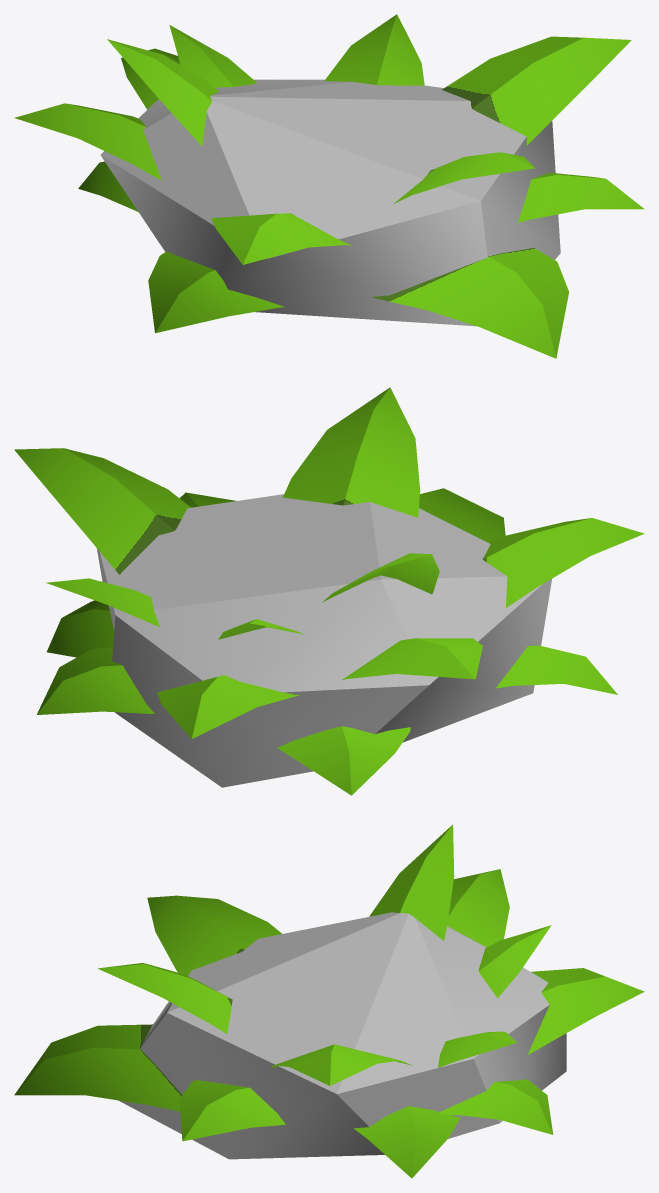
The model's file is Deco_Fern_Collider_Compound.glb.
3 renders of one model, top to bottom at view 1: azimuth 30°, elevation 25°; view 2: azimuth 150°, elevation 25°; view 3: azimuth 270°, elevation 25°, orthographic. The views are drawn at different scales.
Parts seen in each view (by area): view 1: Deco_Fern_Collider_ConvexHull, Deco_Fern_Collider_Compound; view 2: Deco_Fern_Collider_ConvexHull, Deco_Fern_Collider_Compound; view 3: Deco_Fern_Collider_ConvexHull, Deco_Fern_Collider_Compound.
Part boxes in pixels (box(x1,y1,x2,y2)): Deco_Fern_Collider_ConvexHull: box(100, 79, 560, 326); Deco_Fern_Collider_Compound: box(14, 14, 644, 358); Deco_Fern_Collider_ConvexHull: box(97, 494, 551, 787); Deco_Fern_Collider_Compound: box(14, 387, 644, 795); Deco_Fern_Collider_ConvexHull: box(119, 912, 566, 1159); Deco_Fern_Collider_Compound: box(14, 824, 644, 1178).
Size of the model in its own units: 2.96 by 1.16 by 3.38.
2 materials, 1 textured.
